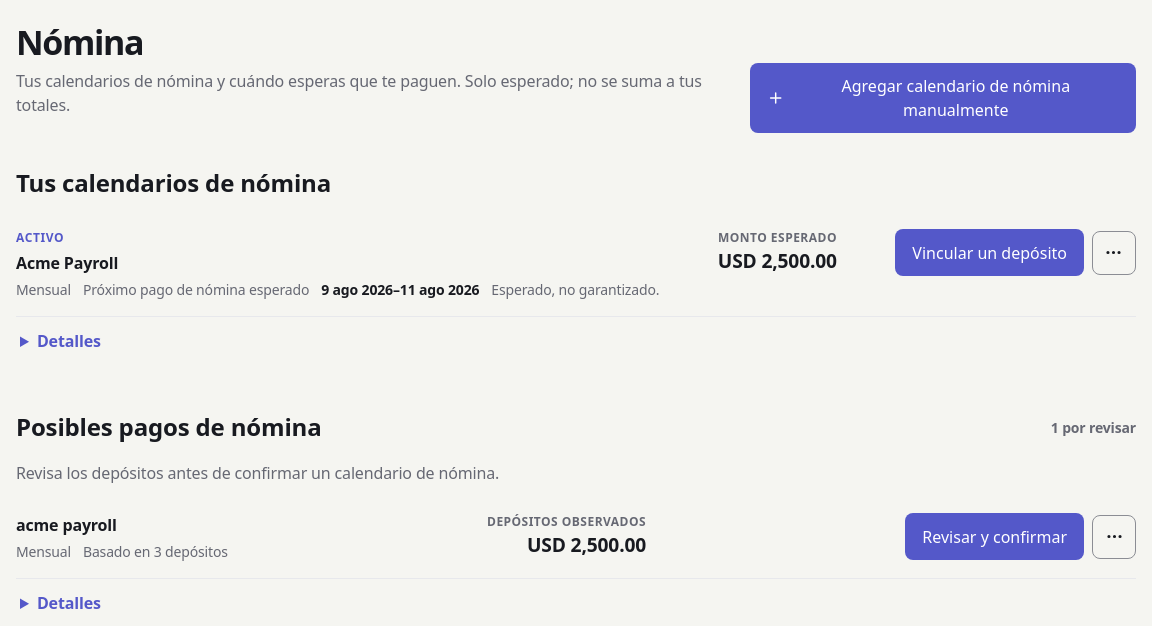
Paychecks page in Spanish › shows a readable Spanish fallback for an unknown backend code
Check: the heading "Tus calendarios de nómina" is shown, box x1=16 y1=165 x2=331 y2=201
Click the button with aria-label "Revisar y confirmar: acme payroll". click: (995, 537)
box: x1=905 y1=513 x2=1084 y2=560
(page scrolled)
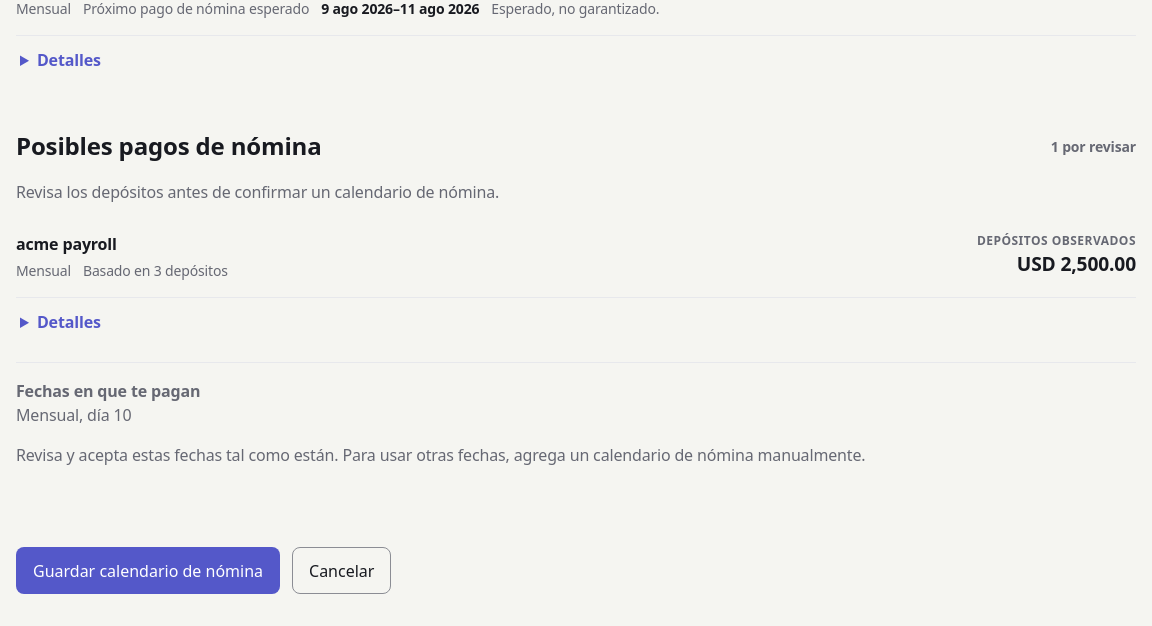
Click the button "Guardar calendario de nómina". click: (148, 571)
box: x1=16 y1=547 x2=280 y2=594
(page scrolled)
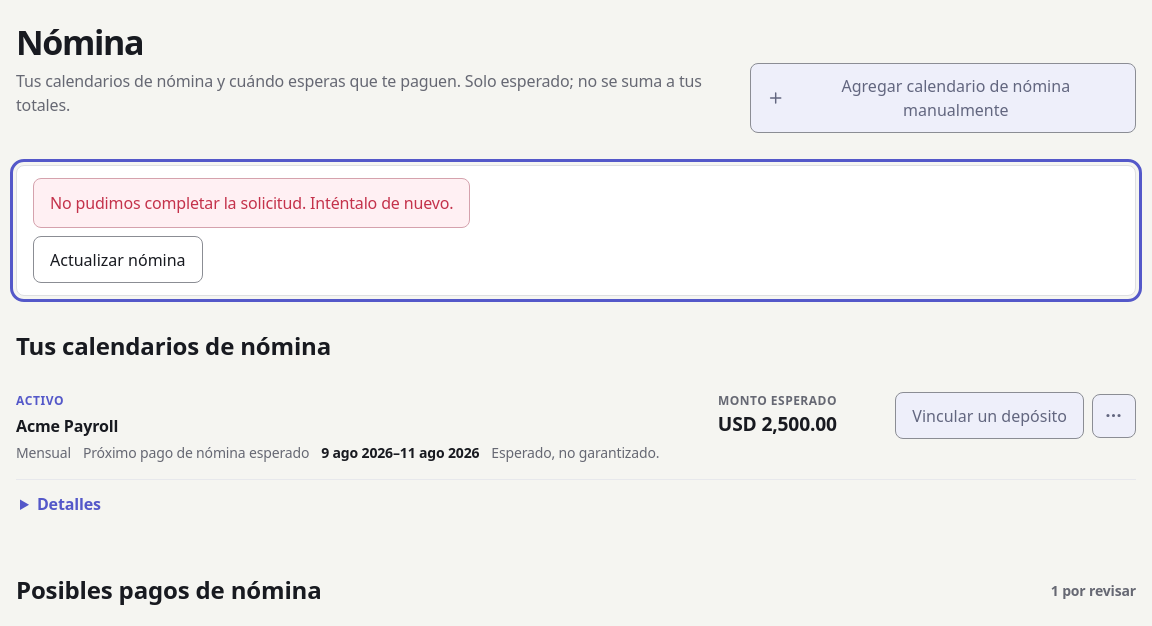
Check: the message reads "No pudimos completar la solicitud. Inténtalo de nuevo.", box x1=50 y1=192 x2=453 y2=214
